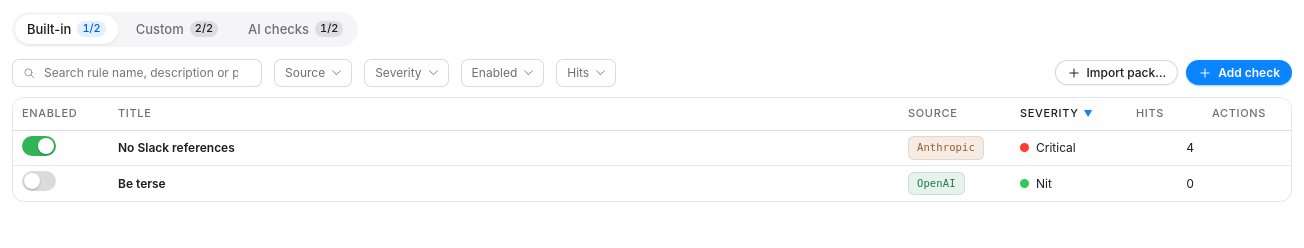
Scenario: ChecksLibrary › names each table after the tab it belongs to
Check: the table named "Built-in rules" is shown, box [13,98,1291,200]
Step 1. Click the tab "AI checks 1/2" → (296, 29), box [236,15,355,44]
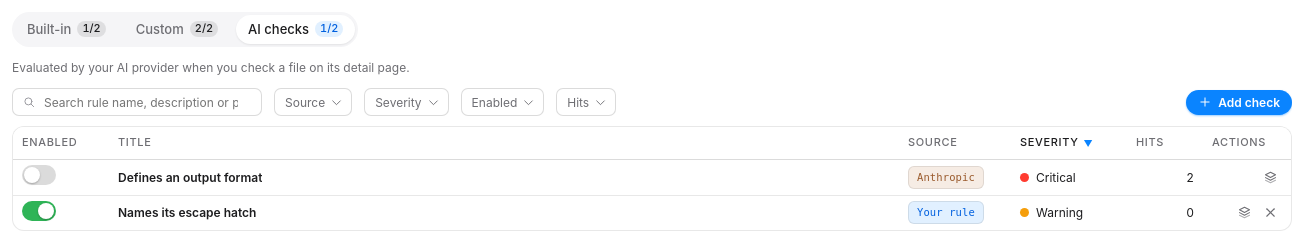
Check: the table named "AI checks rules" is shown, box [13,127,1291,230]
